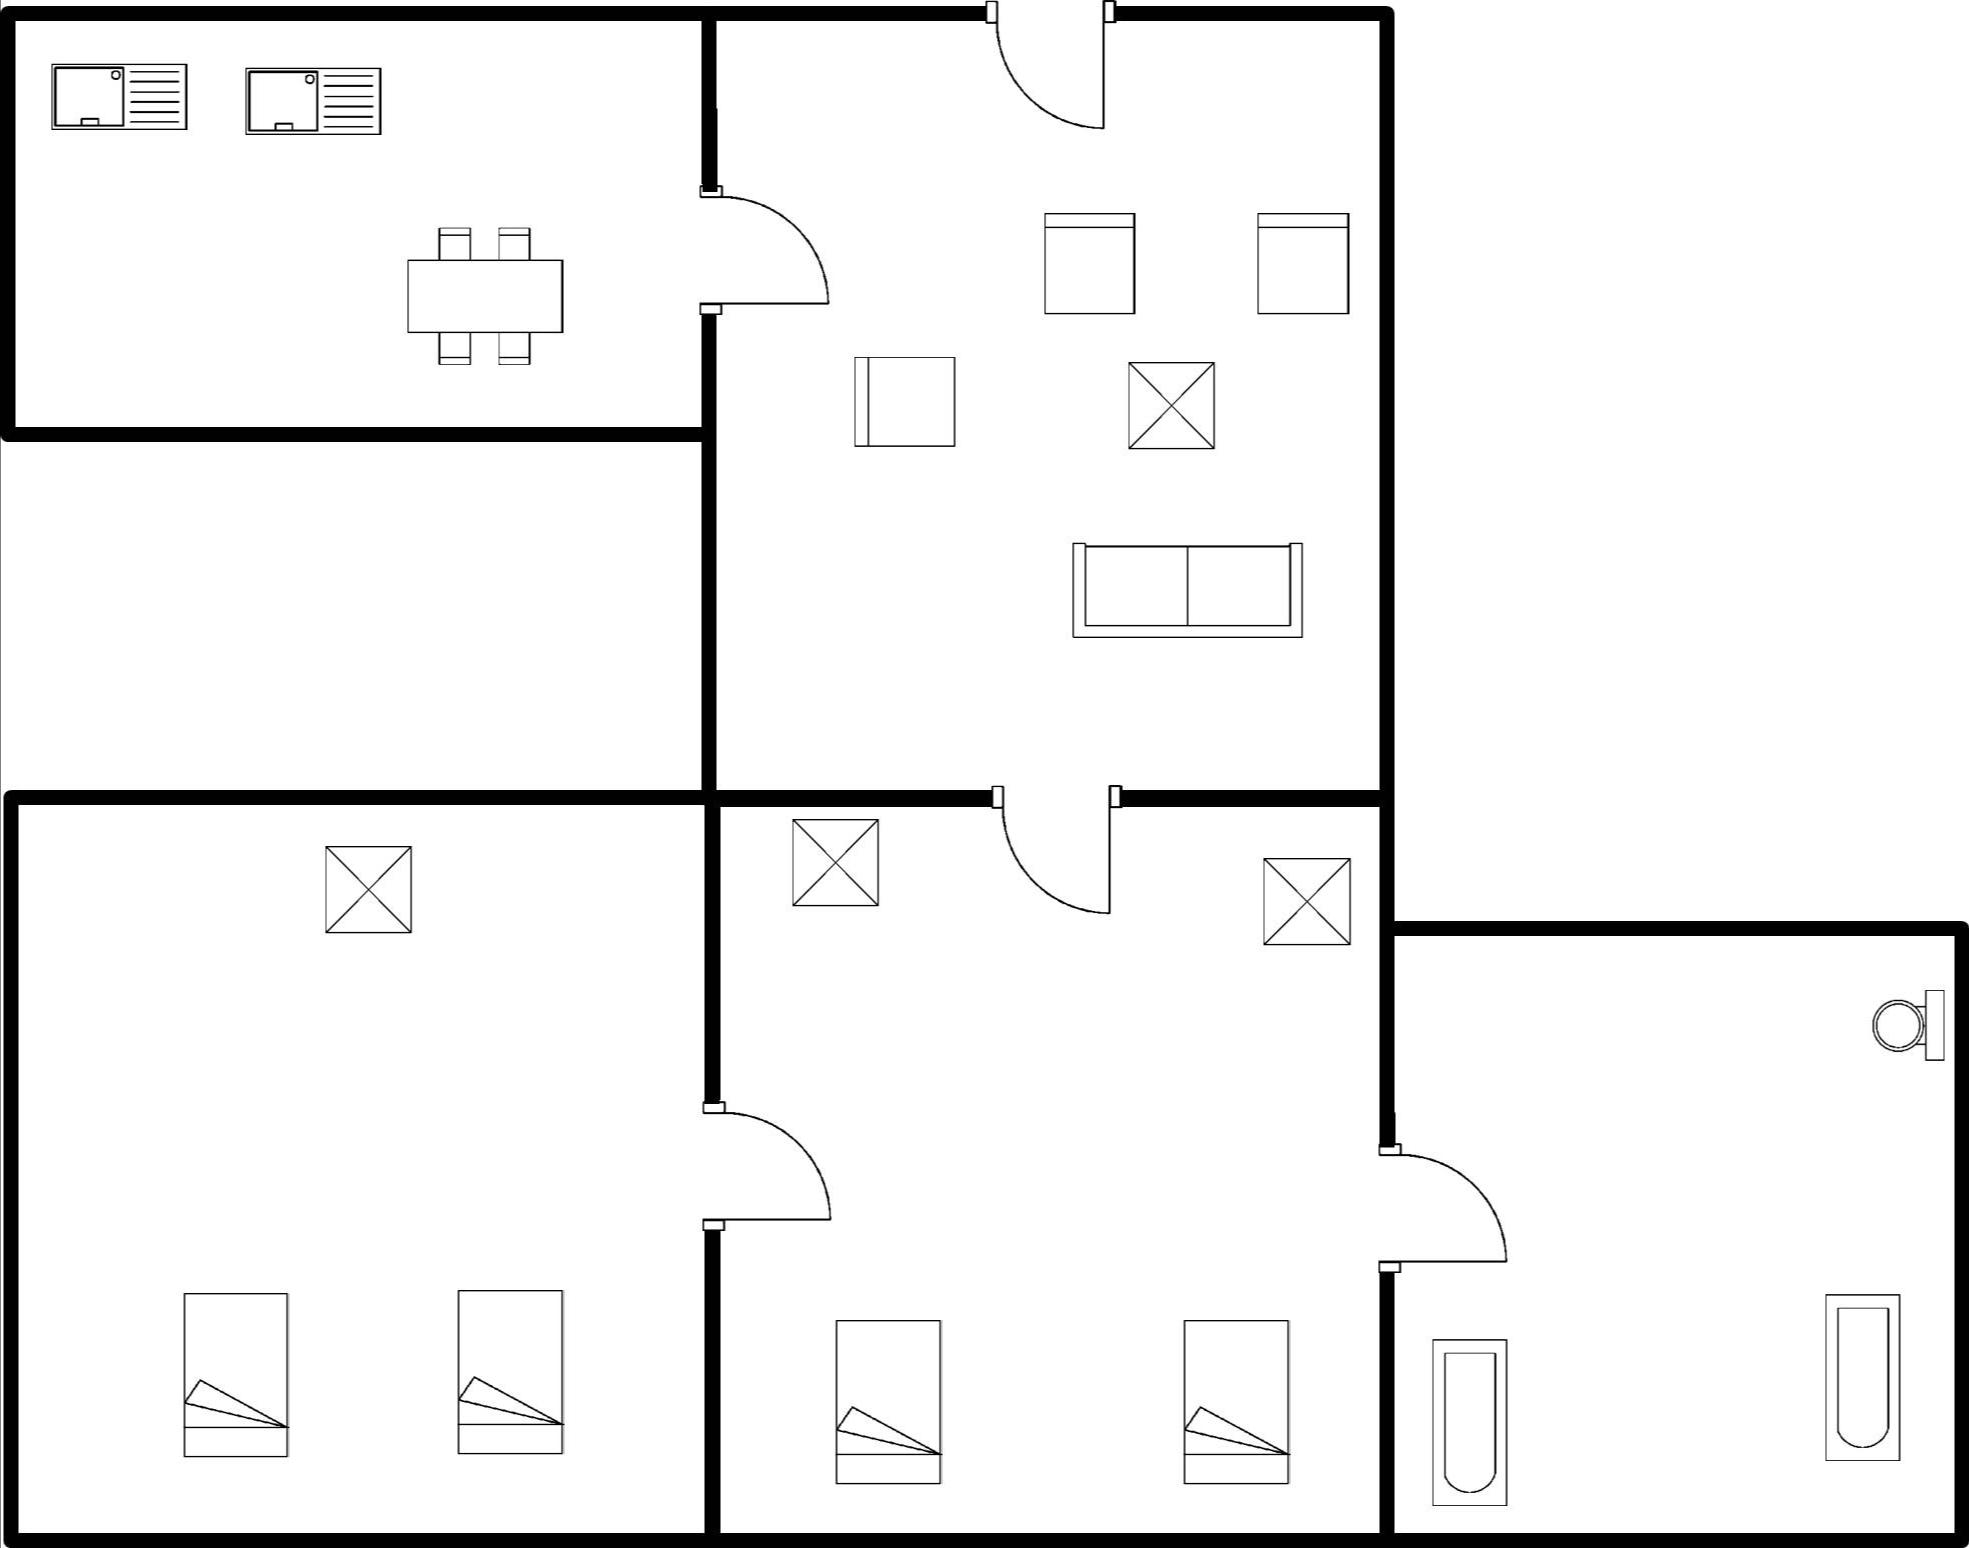bed: (447, 1273, 577, 1465), (173, 1280, 300, 1468), (1173, 1312, 1301, 1497), (825, 1308, 949, 1494)
dining_table: (400, 216, 571, 374)
sink: (42, 53, 198, 144), (238, 54, 388, 147)
sofa: (1064, 530, 1314, 647)
toilet: (1868, 978, 1951, 1077)
tub: (1814, 1283, 1915, 1470), (1422, 1331, 1518, 1514)
